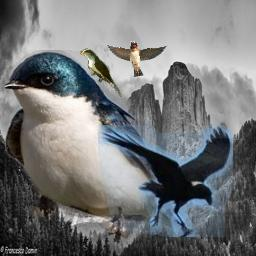Crow: (98, 125, 233, 237)
Cuckoo: (80, 48, 122, 97)
Swallow: (5, 50, 190, 246), (103, 41, 168, 77)
